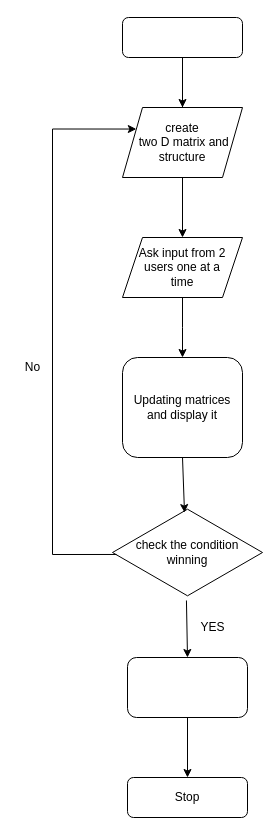
Some shapes in this 280 by 835 pixel diagram are drawn without their labels. The centre of each missing label's shape, as x and y in pixels:
Start: (182,37)
Write result to the file: (187,687)
